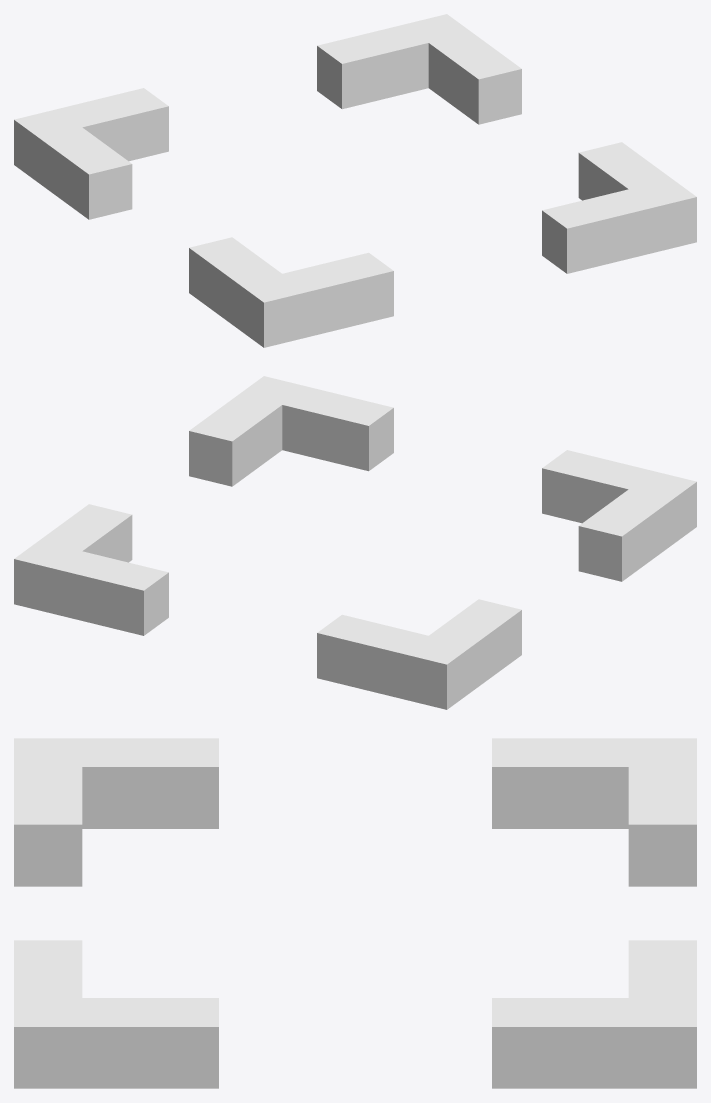
Rendered from cursor3.obj.
3 views of the same model, one above another, from view 1: azimuth 30°, elevation 25°; view 2: azimuth 150°, elevation 25°; view 3: azimuth 270°, elevation 25° (orthographic). The views are drawn at different scales.
Size of the model in its own units: 1 by 0.1 by 1.
Materials: 1 (1 with a texture image).
